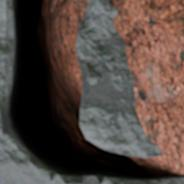brick: (108, 0, 183, 173)
crack: (0, 0, 183, 183)
